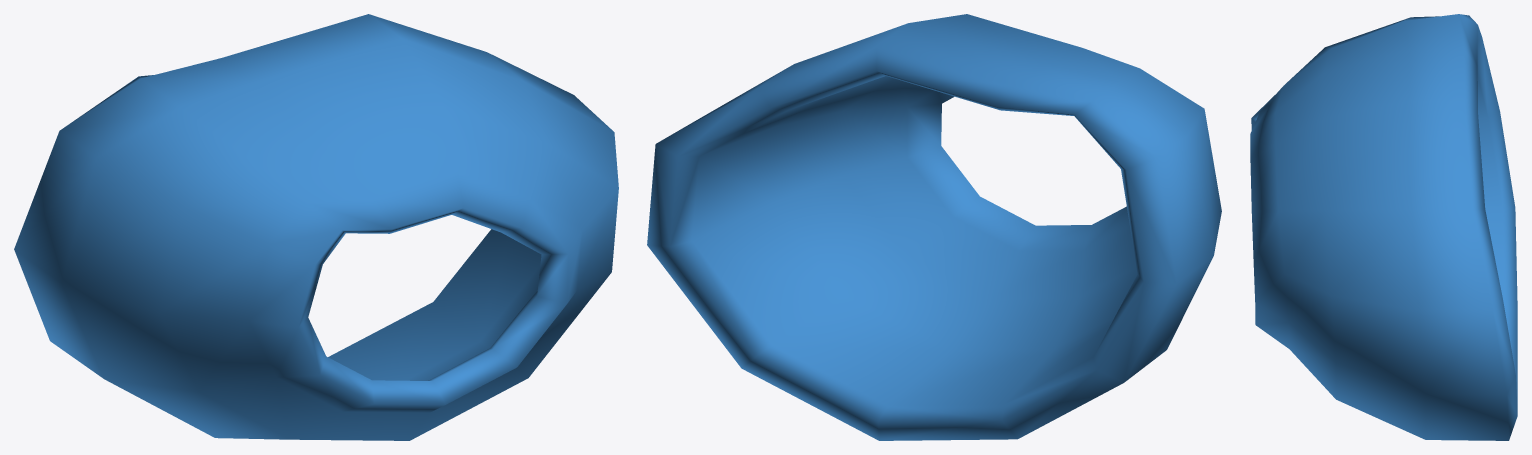
The model's file is coral05c.fbx.
The picture shows the model from 3 angles, left to right: view 1: azimuth 30°, elevation 25°; view 2: azimuth 150°, elevation 25°; view 3: azimuth 270°, elevation 25°; orthographic projection. The views are drawn at different scales.
Parts seen in each view (by area): view 1: Coral05c; view 2: Coral05c; view 3: Coral05c.
Boxes of the visible parts, left/top/right/bottom form: Coral05c: left=14, top=14, right=618, bottom=440; Coral05c: left=647, top=14, right=1221, bottom=440; Coral05c: left=1250, top=14, right=1517, bottom=440.
Size of the model in its own units: 482 by 328 by 244.
